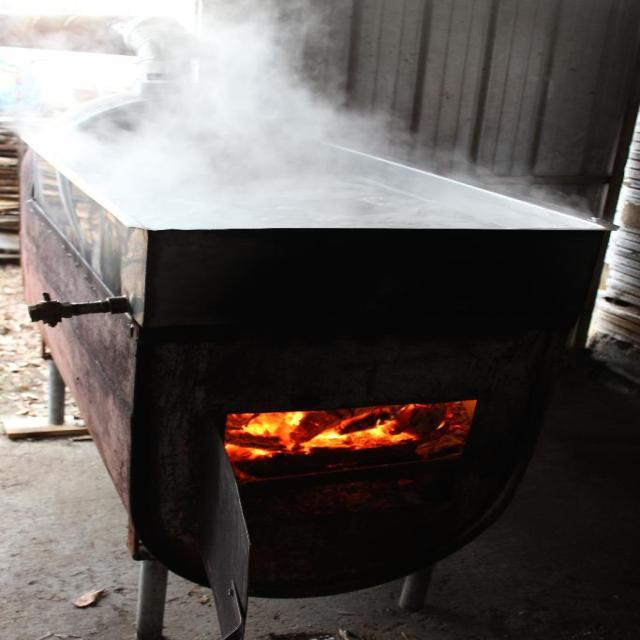Fire: (223, 398, 480, 464)
Smoke: (5, 9, 570, 226)
